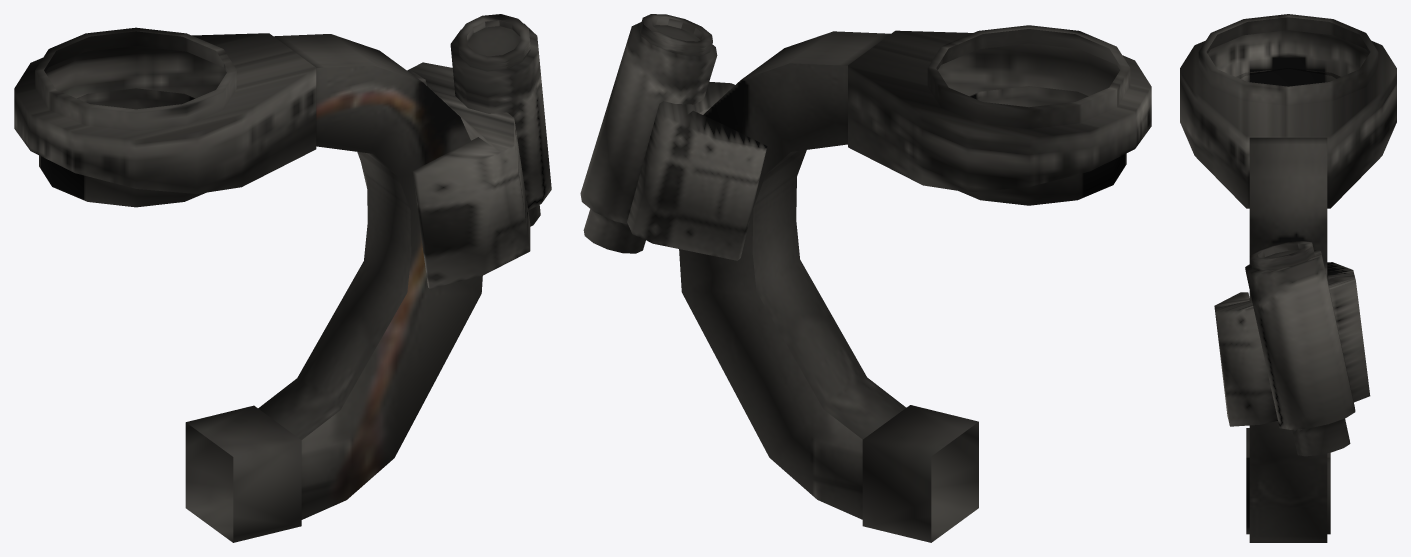
The model's file is suspension_steer_F_R.dae.
3 renders of one model, left to right at view 1: azimuth 30°, elevation 25°; view 2: azimuth 150°, elevation 25°; view 3: azimuth 270°, elevation 25°, orthographic. The views are drawn at different scales.
Visible parts, largest first — view 1: suspension_steer_F_R; view 2: suspension_steer_F_R; view 3: suspension_steer_F_R.
Part boxes in pixels (left/top/right/bottom): suspension_steer_F_R: left=14, top=14, right=551, bottom=542; suspension_steer_F_R: left=580, top=14, right=1151, bottom=542; suspension_steer_F_R: left=1180, top=14, right=1396, bottom=542.
Size of the model in its own units: 0.5284 by 0.2102 by 0.45.
2 materials, 2 textured.
